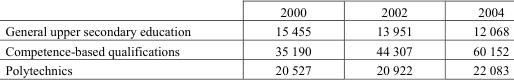table: (4, 3, 508, 77)
table column: (4, 3, 232, 77), (232, 3, 343, 77), (343, 3, 442, 77), (442, 3, 508, 77)
table column header: (4, 3, 508, 20)
table row: (4, 20, 508, 40), (4, 40, 508, 59), (4, 59, 508, 77), (4, 3, 508, 20)
